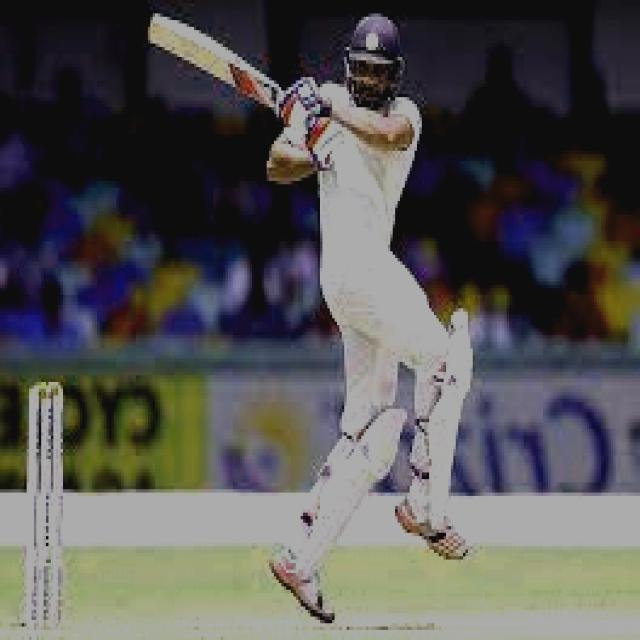toe: (148, 10, 171, 59)
